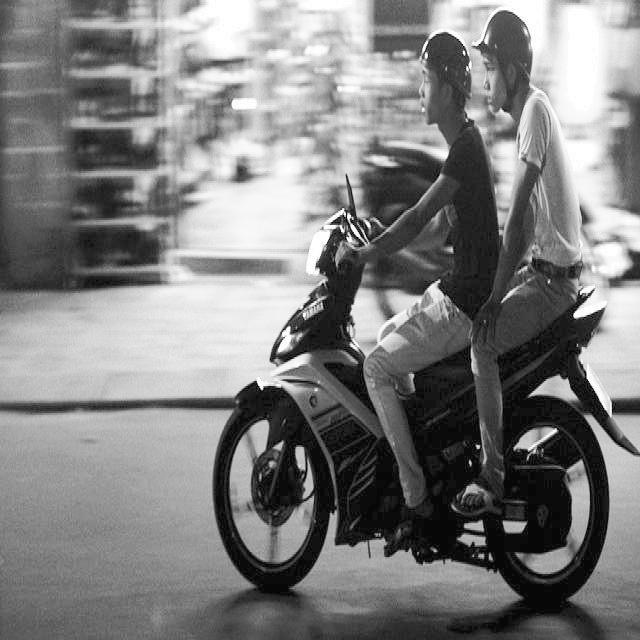Motorcycle: (196, 167, 610, 616)
Person: (469, 6, 593, 387), (376, 22, 494, 410)
